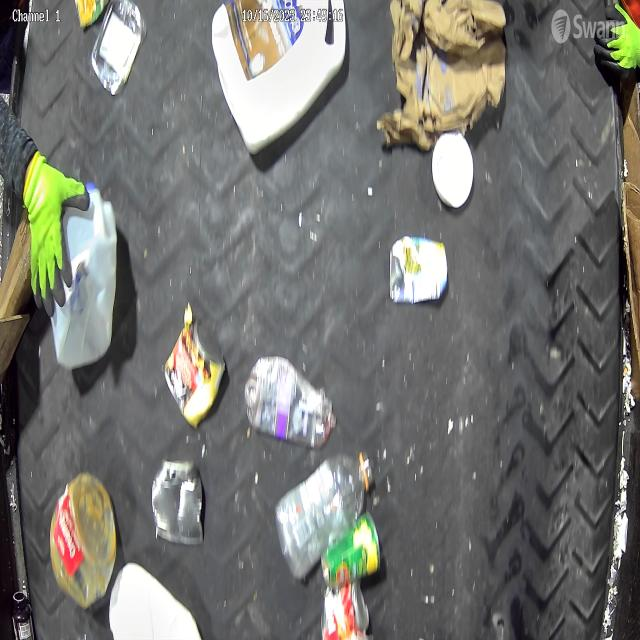can: (166, 319, 223, 426), (151, 456, 205, 546), (389, 234, 448, 309), (320, 581, 370, 640)
milk_jug: (211, 0, 347, 154), (48, 182, 117, 371), (109, 561, 208, 640)
plastic_bottle: (272, 453, 373, 578), (245, 354, 338, 449)
